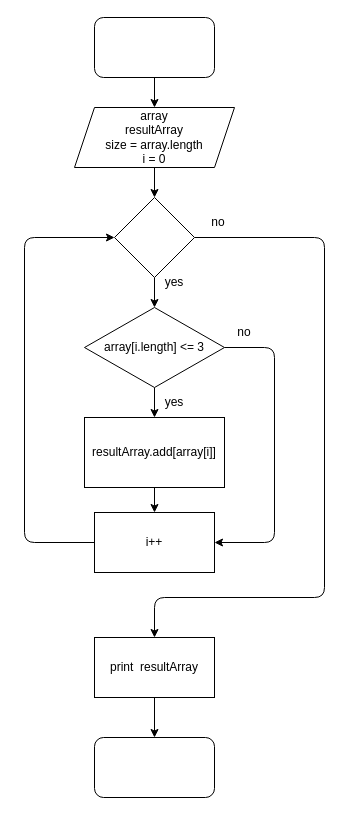
The diagram is 350 pixels wide and 815 high, and some of its shapes have lost their labels. Here are the shapes that lost their labels. From the top down, the centre of each, then its label:
the point at 154,47: start
the point at 154,237: i < size
the point at 154,767: end
